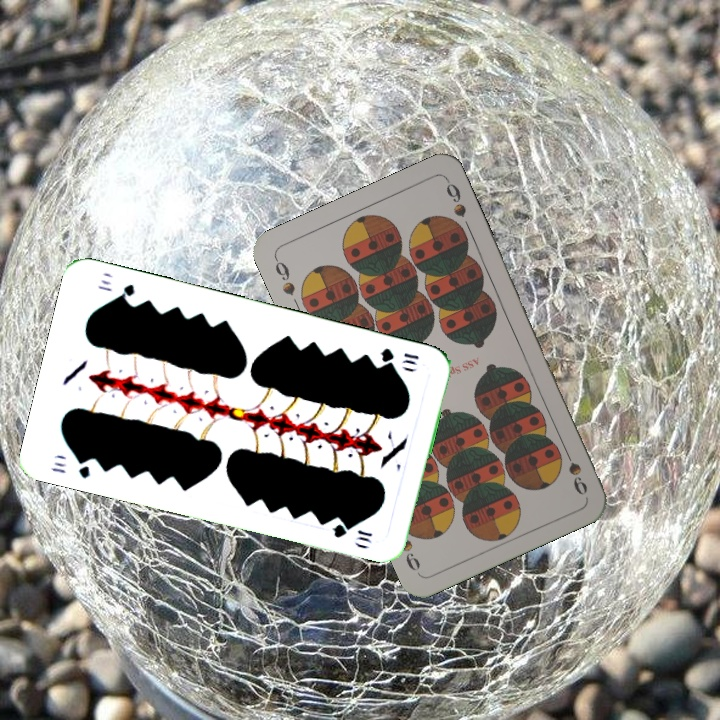G10: (46, 453, 93, 481), (376, 344, 422, 367)
S9: (558, 441, 590, 498), (270, 253, 298, 298)
